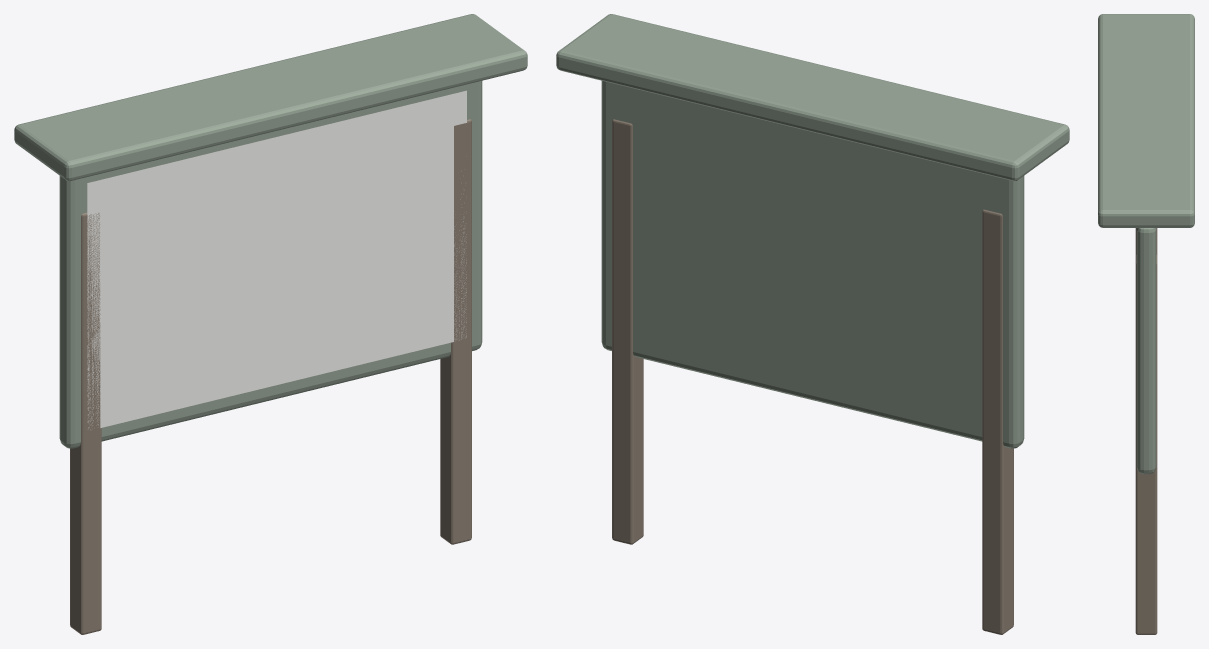
The model's file is guide_board.glb.
3 renders of one model, left to right at view 1: azimuth 30°, elevation 25°; view 2: azimuth 150°, elevation 25°; view 3: azimuth 270°, elevation 25°, orthographic. The views are drawn at different scales.
Visible parts, largest first — view 1: guide_board; view 2: guide_board; view 3: guide_board.
Part boxes in pixels (x1=…): guide_board: x1=14, y1=14, x2=527, y2=634; guide_board: x1=556, y1=14, x2=1069, y2=634; guide_board: x1=1098, y1=14, x2=1194, y2=634.
Bounding box in the file's own units: 1.95 × 2 × 0.4.
